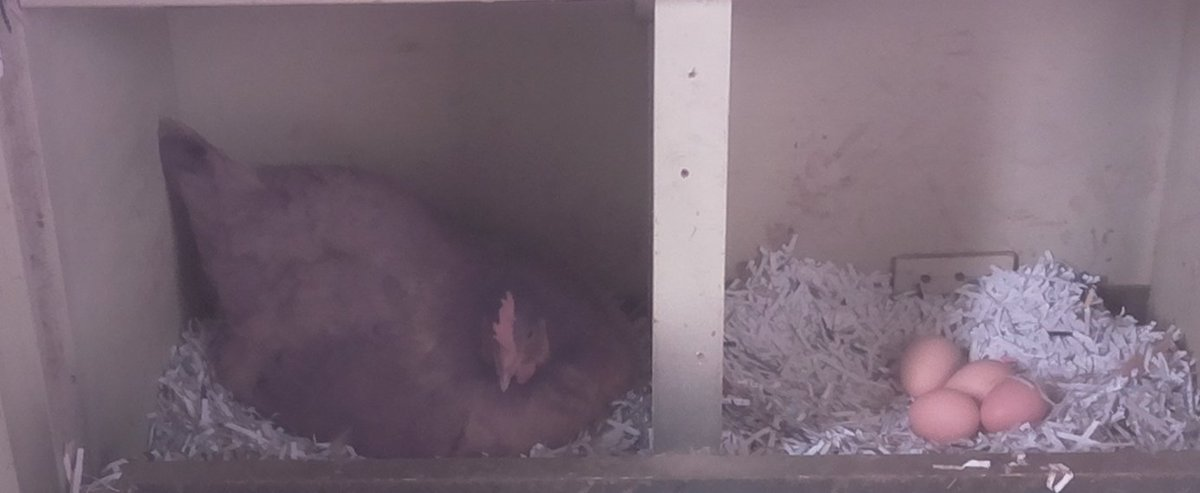egg: (974, 373, 1060, 439), (904, 386, 986, 451), (898, 328, 968, 400), (940, 357, 1026, 397)
hen: (150, 108, 650, 458)
